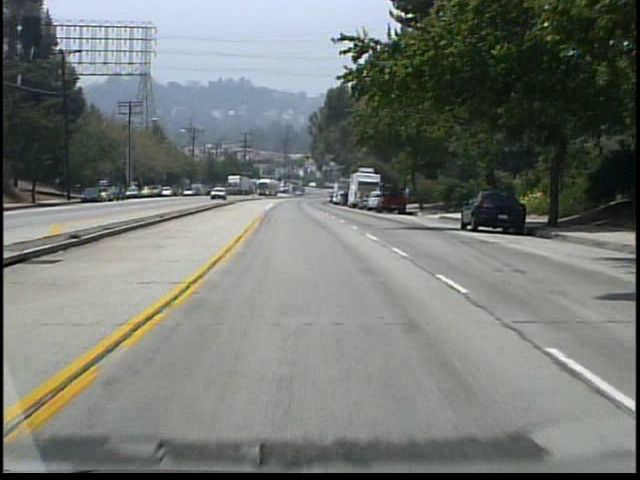person: (399, 183, 411, 209)
